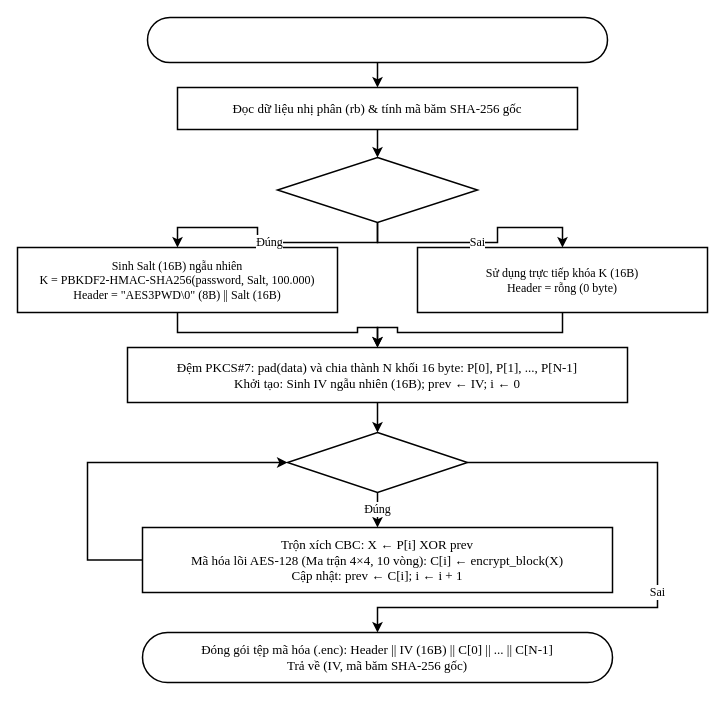
Some shapes in this 726 by 701 pixel diagram are drawn without their labels. Each missing label, with the box of its shape:
Dùng mật khẩu?: (276, 156, 478, 223)
i < N ?: (286, 431, 468, 493)
Đầu vào: Tệp gốc (data) và Khóa K (16B) hoặc Mật khẩu (password): (146, 16, 608, 63)
